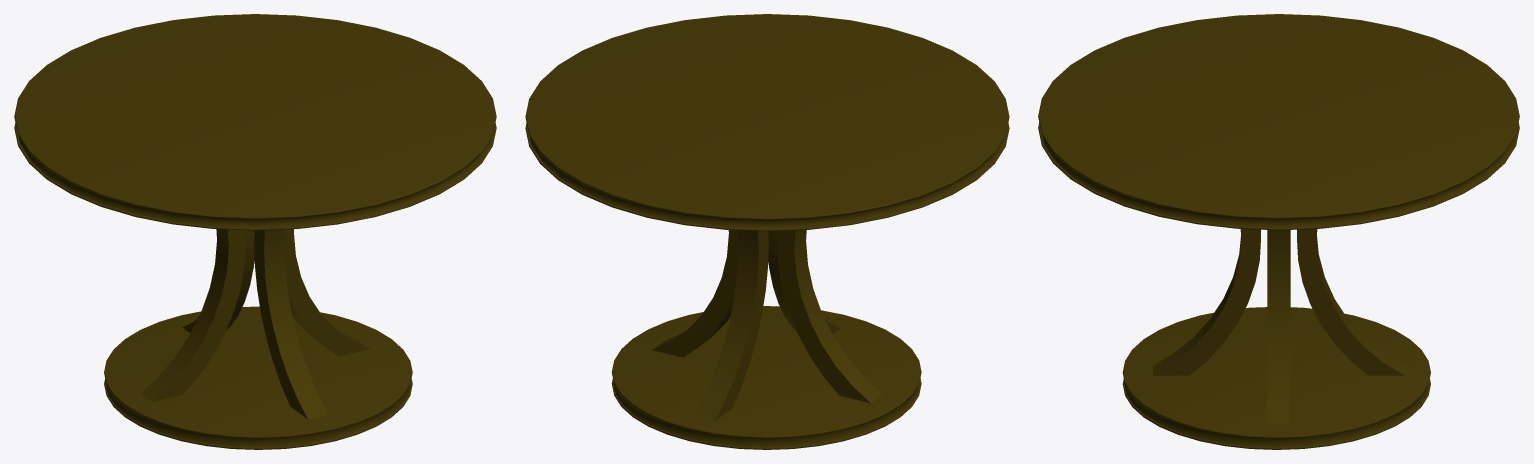
3 views of the same model, side by side, from view 1: azimuth 30°, elevation 25°; view 2: azimuth 150°, elevation 25°; view 3: azimuth 270°, elevation 25° (orthographic).
Visible parts, largest first — view 1: group_4 (×3), group_5 (×3), group_1, group_2, group_0, group_3; view 2: group_4 (×3), group_5 (×3), group_3, group_2, group_0, group_1; view 3: group_4 (×3), group_5 (×3), group_0, group_1, group_3.
Boxes of the visible parts, box(x1,y1,x2,y2) form: group_4 (×3): box(14, 14, 496, 230); group_5 (×3): box(104, 306, 412, 449); group_1: box(254, 229, 328, 419); group_2: box(140, 229, 245, 401); group_0: box(284, 229, 370, 356); group_3: box(182, 230, 254, 333); group_4 (×3): box(525, 14, 1009, 231); group_5 (×3): box(611, 306, 921, 449); group_3: box(694, 230, 768, 421); group_2: box(777, 230, 882, 403); group_0: box(652, 230, 738, 357); group_1: box(768, 231, 840, 334); group_4 (×3): box(1038, 14, 1519, 230); group_5 (×3): box(1122, 307, 1430, 449); group_0: box(1267, 230, 1290, 423); group_1: box(1153, 229, 1260, 375); group_3: box(1297, 229, 1404, 375).
Size of the model in its own units: 48.35 by 48.35 by 29.76.
